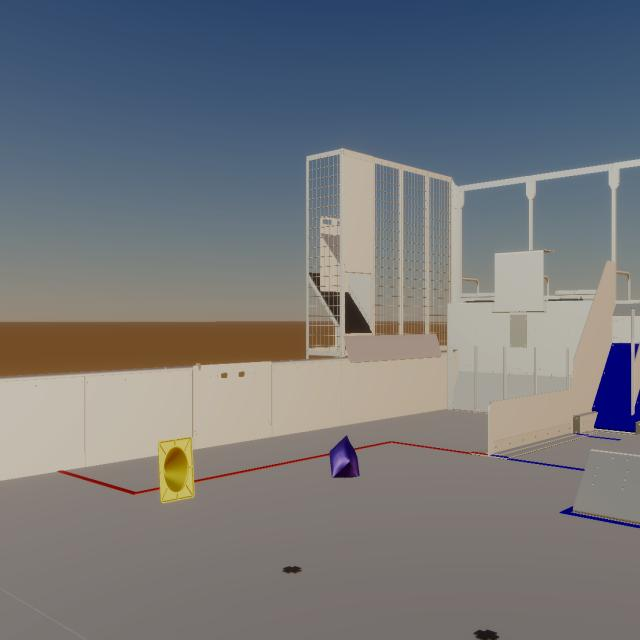frc_cone: (158, 436, 195, 504)
frc_cube: (329, 436, 360, 478)
